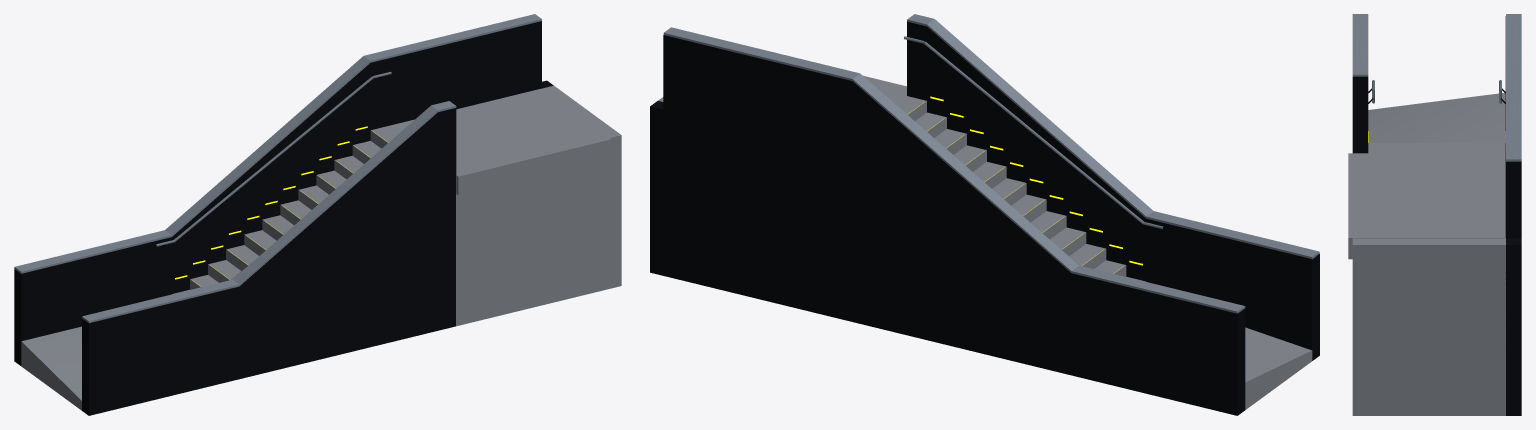
3 views of the same model, side by side, from view 1: azimuth 30°, elevation 25°; view 2: azimuth 150°, elevation 25°; view 3: azimuth 270°, elevation 25° (orthographic). The views are drawn at different scales.
Visible parts, largest first — view 1: Cheek_Walls, Stair_Body, Cheek_Caps, Handrail; view 2: Cheek_Walls, Cheek_Caps, Stair_Body, Handrail; view 3: Stair_Body, Cheek_Walls, Cheek_Caps.
Boxes of the visible parts, x1,y1,x2,y2 form: Cheek_Walls: [14, 21, 553, 415]; Stair_Body: [21, 85, 621, 410]; Cheek_Caps: [14, 14, 541, 322]; Handrail: [156, 71, 391, 279]; Cheek_Walls: [650, 21, 1319, 415]; Cheek_Caps: [663, 14, 1319, 313]; Stair_Body: [658, 75, 1312, 409]; Handrail: [904, 36, 1163, 265]; Stair_Body: [1348, 92, 1505, 415]; Cheek_Walls: [1352, 16, 1521, 415]; Cheek_Caps: [1352, 14, 1521, 161].
Size of what is drawn, in the model's own units: 8.85 by 3.5 by 2.2.
6 materials, 4 textured.
